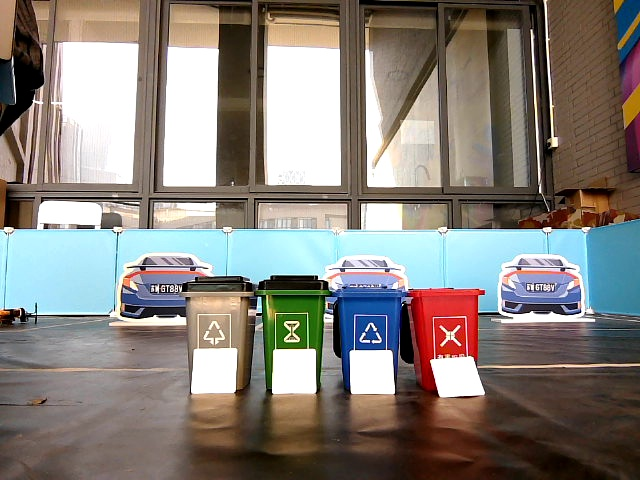blue_open: (339, 290, 399, 347)
green_close: (261, 274, 322, 345)
grey_close: (187, 276, 250, 348)
red_open: (413, 288, 476, 355)
